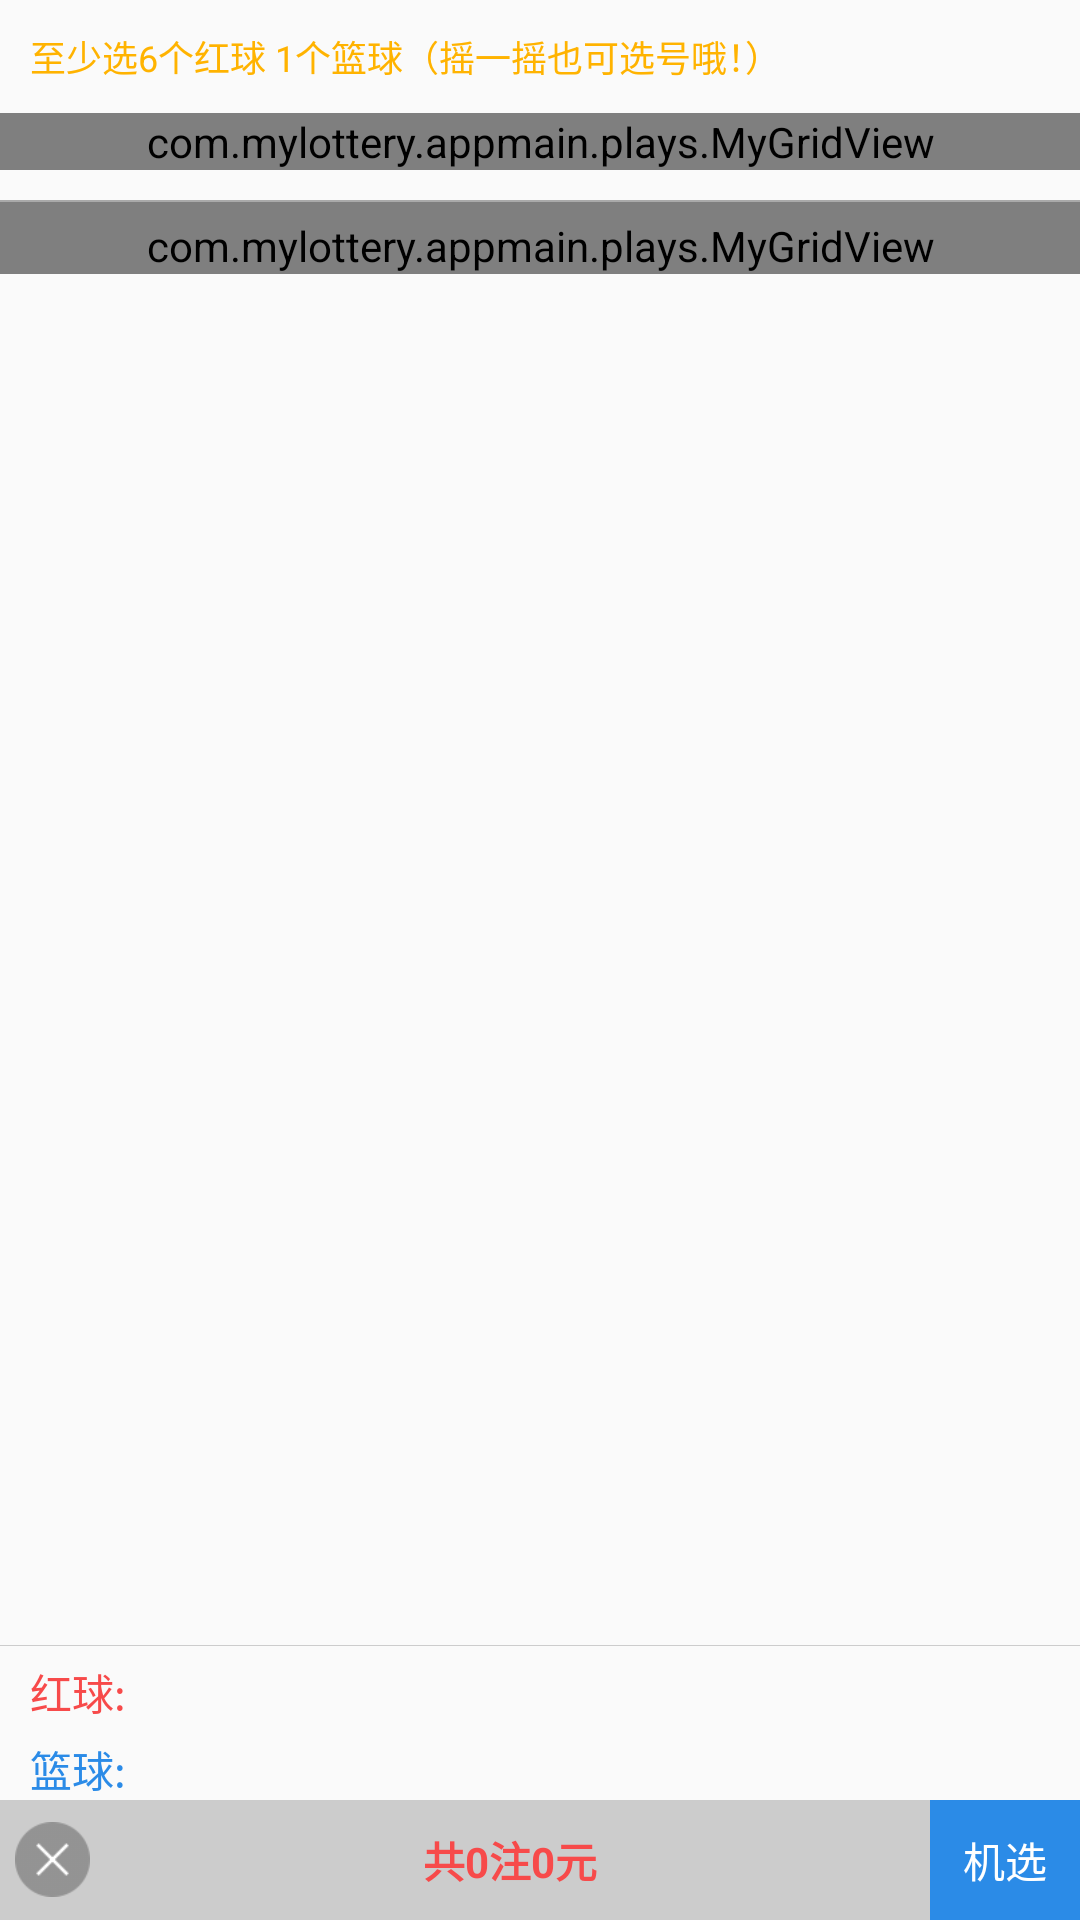

Named icons in this screenshot (1080x1920) and their centers, (x,y):
clear: (52,1859)
